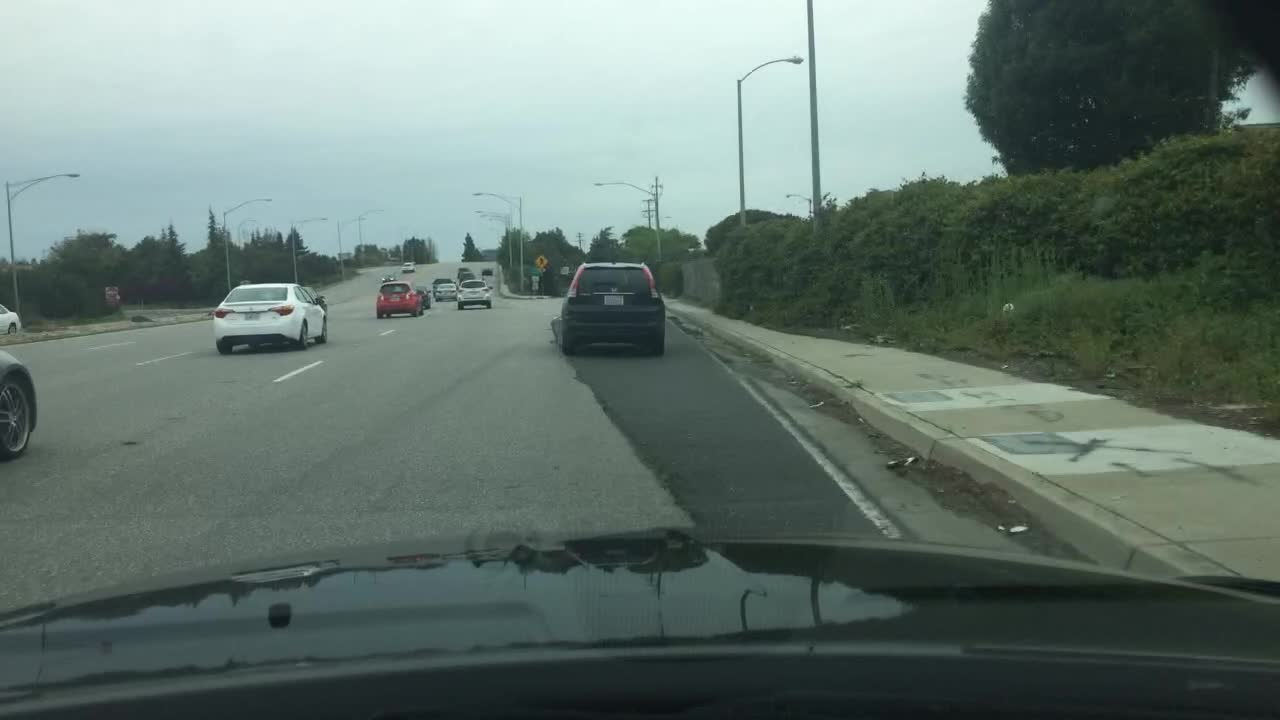car: (558, 258, 668, 360), (212, 282, 330, 356), (0, 340, 39, 460), (373, 278, 420, 317), (455, 276, 491, 308), (1, 297, 18, 339), (433, 281, 455, 297), (418, 283, 430, 310), (402, 257, 412, 274), (477, 263, 493, 270)
traffic sign: (534, 251, 545, 265), (532, 275, 541, 290), (559, 264, 572, 274)
